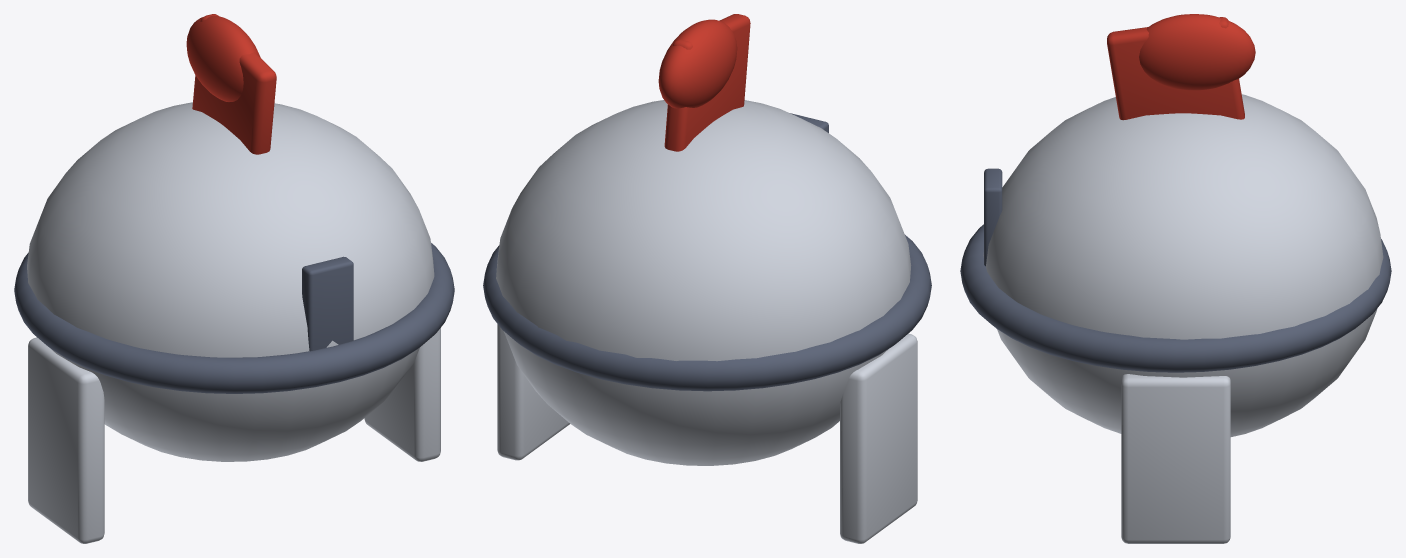
File: knight-helmet.glb
3 renders of one model, left to right at view 1: azimuth 30°, elevation 25°; view 2: azimuth 150°, elevation 25°; view 3: azimuth 270°, elevation 25°, orthographic. The views are drawn at different scales.
Parts seen in each view (by area): view 1: knight-helmet; view 2: knight-helmet; view 3: knight-helmet.
Part boxes in pixels (x1,y1,x2,y2): knight-helmet: (14, 14, 454, 543); knight-helmet: (483, 14, 931, 543); knight-helmet: (960, 14, 1391, 543).
Bounding box in the file's own units: 1.18 × 1.34 × 1.18.
